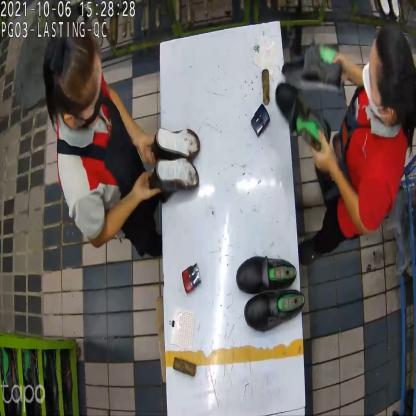shoes: (274, 44, 344, 148), (236, 254, 306, 332), (149, 124, 201, 192)
stamp: (181, 262, 202, 295), (252, 102, 271, 138)
